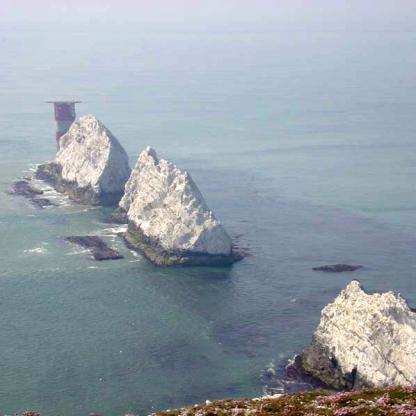Sedimentary_Chalk: (124, 149, 243, 263), (309, 275, 412, 395), (64, 120, 122, 179)
